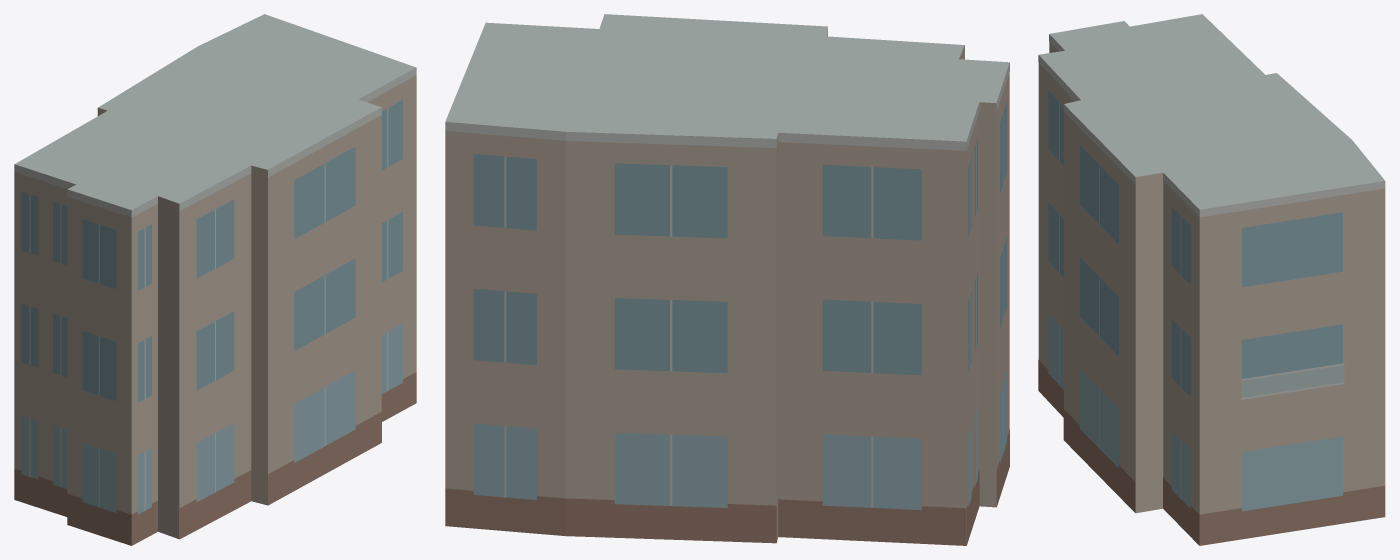
File: survey-upis-32480739.glb
3 views of the same model, side by side, from view 1: azimuth 30°, elevation 25°; view 2: azimuth 150°, elevation 25°; view 3: azimuth 270°, elevation 25° (orthographic). The views are drawn at different scales.
Visible parts, largest first — view 1: survey-upis-32480739.tmp; view 2: survey-upis-32480739.tmp; view 3: survey-upis-32480739.tmp.
Boxes of the visible parts, bbox=[...] form: survey-upis-32480739.tmp: bbox=[14, 14, 416, 545]; survey-upis-32480739.tmp: bbox=[445, 14, 1009, 545]; survey-upis-32480739.tmp: bbox=[1038, 14, 1385, 545].
Bounding box in the file's own units: 13.38 × 10.7 × 10.02.
